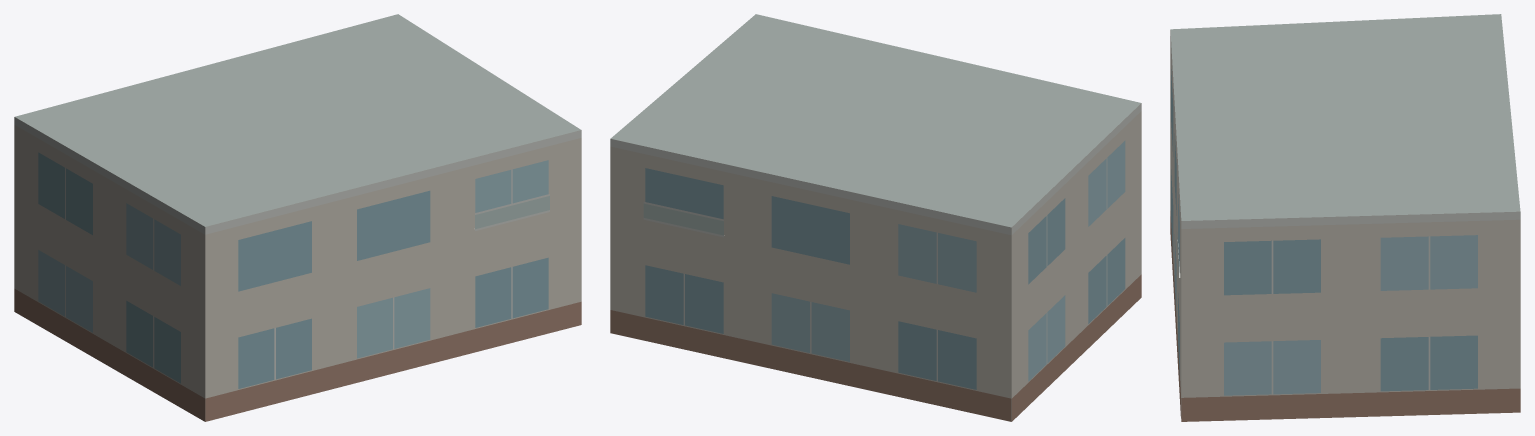
The model's file is survey-upis-32576557.glb.
3 views of the same model, side by side, from view 1: azimuth 30°, elevation 25°; view 2: azimuth 150°, elevation 25°; view 3: azimuth 270°, elevation 25° (orthographic). The views are drawn at different scales.
Parts seen in each view (by area): view 1: survey-upis-32576557.tmp; view 2: survey-upis-32576557.tmp; view 3: survey-upis-32576557.tmp.
Boxes of the visible parts, x1,y1,x2,y2 form: survey-upis-32576557.tmp: (14, 14, 581, 421); survey-upis-32576557.tmp: (610, 14, 1141, 421); survey-upis-32576557.tmp: (1170, 14, 1520, 421).
Bounding box in the file's own units: 13.5 × 6.1 × 9.65.
